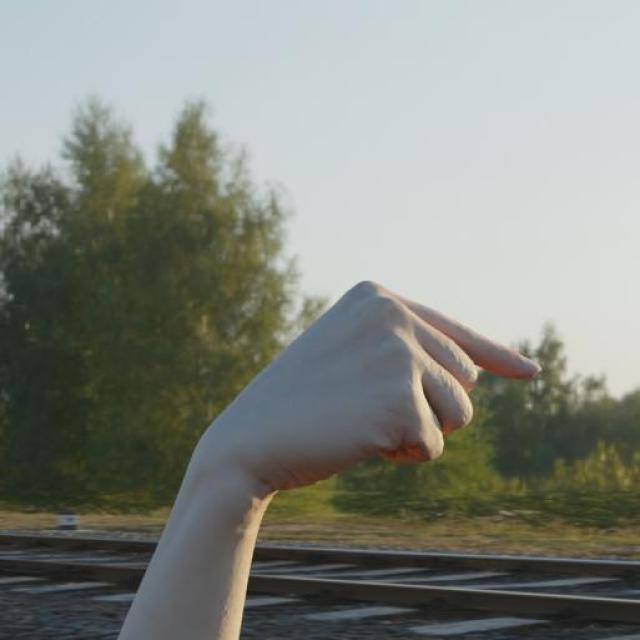G: (202, 280, 554, 484)
